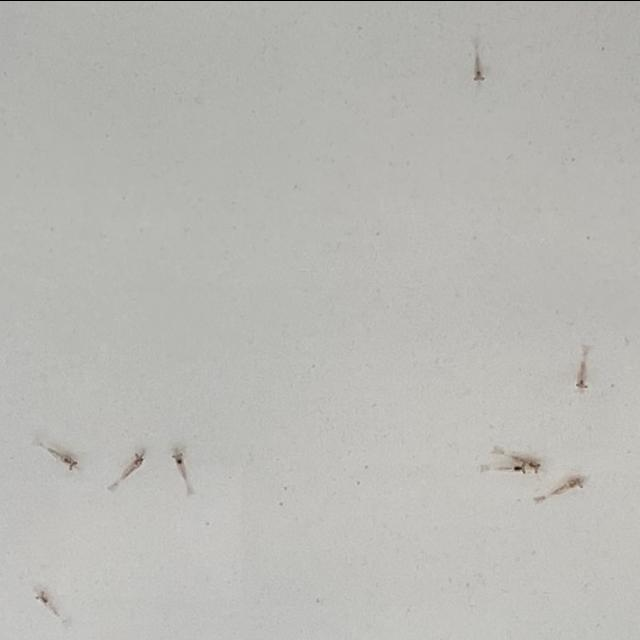shrimp-seed: (128, 448, 150, 470), (58, 452, 80, 473), (566, 471, 587, 491), (167, 446, 185, 468), (32, 588, 52, 606), (572, 374, 592, 391), (511, 460, 529, 478), (470, 68, 488, 84), (530, 459, 544, 475)
